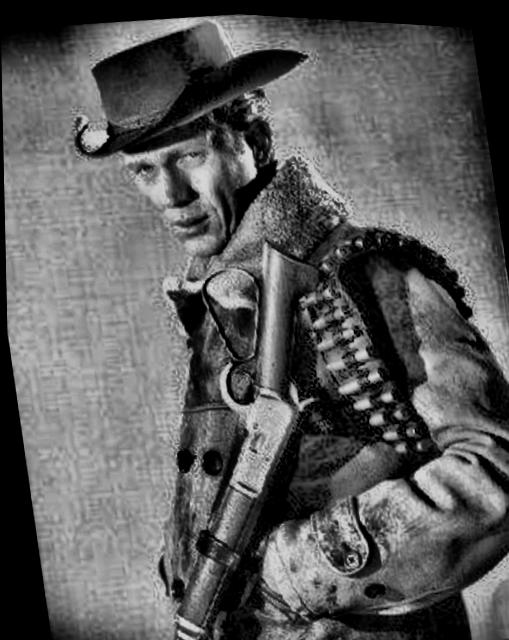pistol: (114, 243, 378, 640)
